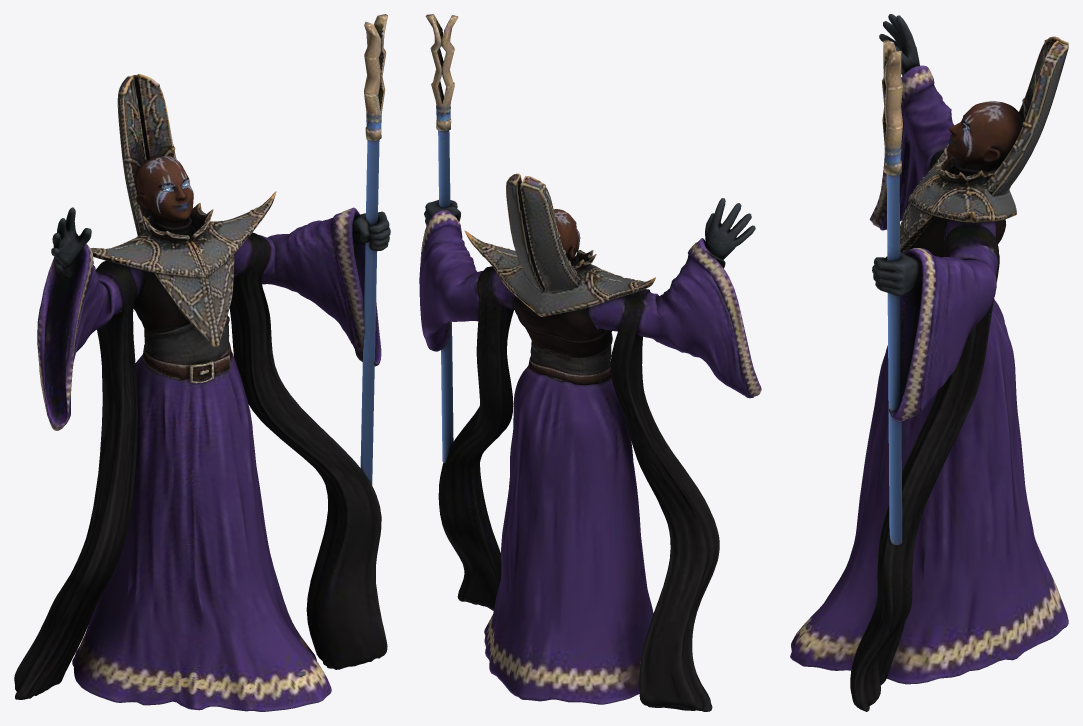
File: MZ4250 - Archmage Female_2 2025.glb
3 views of the same model, side by side, from view 1: azimuth 30°, elevation 25°; view 2: azimuth 150°, elevation 25°; view 3: azimuth 270°, elevation 25° (orthographic). The views are drawn at different scales.
Parts seen in each view (by area): view 1: Staff 1.001; view 2: Staff 1.001; view 3: Staff 1.001.
Boxes of the visible parts, box(x1,y1,x2,y2) form: Staff 1.001: box(14, 14, 390, 711); Staff 1.001: box(419, 14, 761, 711); Staff 1.001: box(790, 14, 1068, 711).
Size of the model in its own units: 66.02 by 115 by 43.12.
2 materials, 2 textured.
